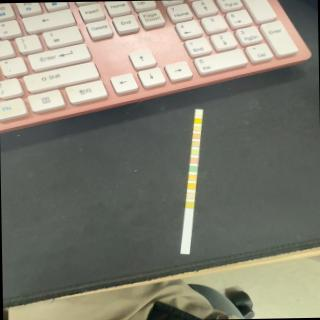mark: (187, 182, 196, 190), (191, 148, 199, 156), (185, 201, 194, 208), (188, 173, 196, 180), (194, 118, 202, 124), (193, 125, 201, 131), (192, 133, 200, 139), (191, 140, 199, 146), (190, 157, 198, 163), (189, 166, 197, 172), (186, 192, 194, 198), (195, 110, 202, 116)
